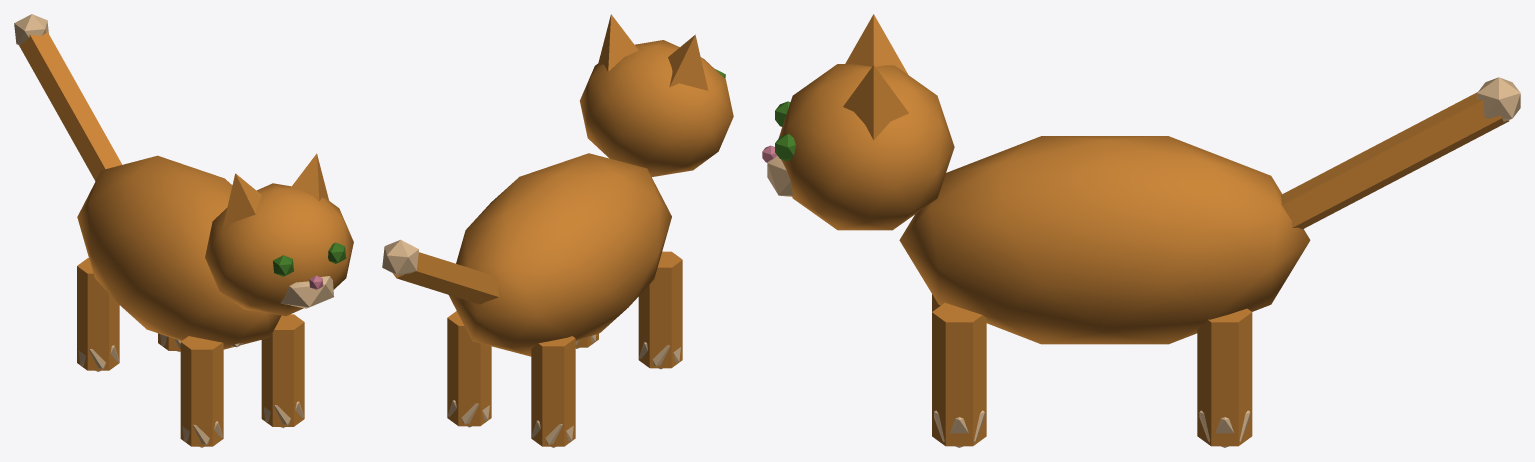
The model's file is a_cat.glb.
The picture shows the model from 3 angles, left to right: view 1: azimuth 30°, elevation 25°; view 2: azimuth 150°, elevation 25°; view 3: azimuth 270°, elevation 25°; orthographic projection. The views are drawn at different scales.
Visible parts, largest first — view 1: body, head, tail; view 2: body, head, tail; view 3: body, head, tail.
Part boxes in pixels (x1,y1,x2,y2): body: (77,155,304,447); head: (205,153,353,316); tail: (14,14,122,181); body: (447,153,682,447); head: (580,14,733,176); tail: (382,239,499,304); body: (899,136,1310,447); head: (762,14,954,230); tail: (1281,77,1520,229).
Bounding box in the file's own units: 0.2435 × 0.4937 × 0.8857.
